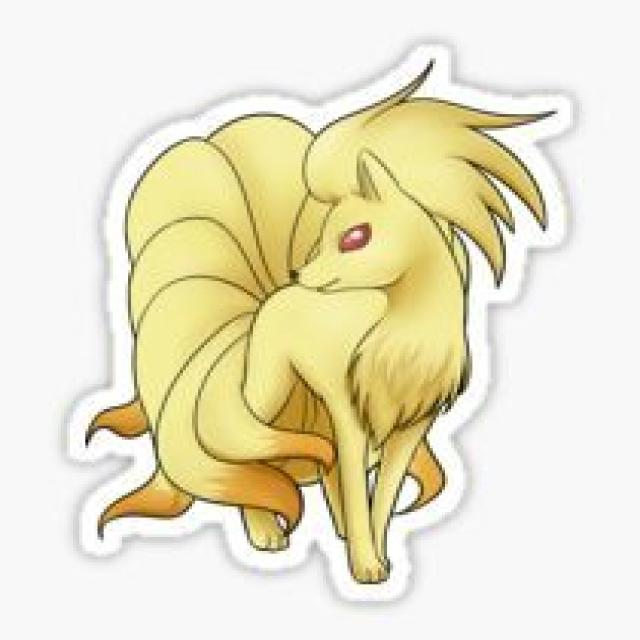Ninetales: (122, 91, 498, 570)
